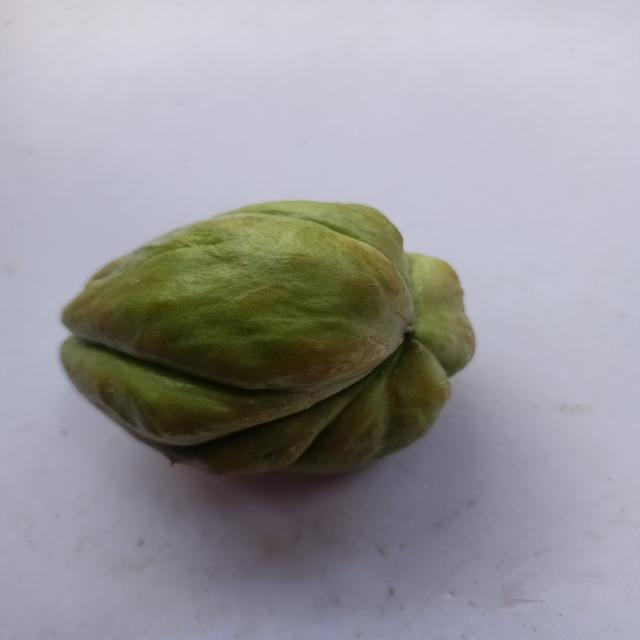Chayote: (28, 186, 517, 528)
